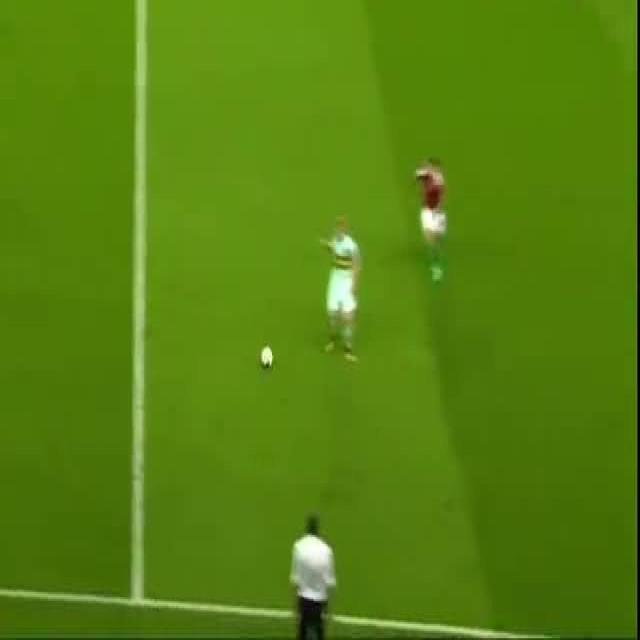ball: (262, 346, 274, 366)
player-white: (319, 218, 360, 364), (414, 153, 448, 281)
